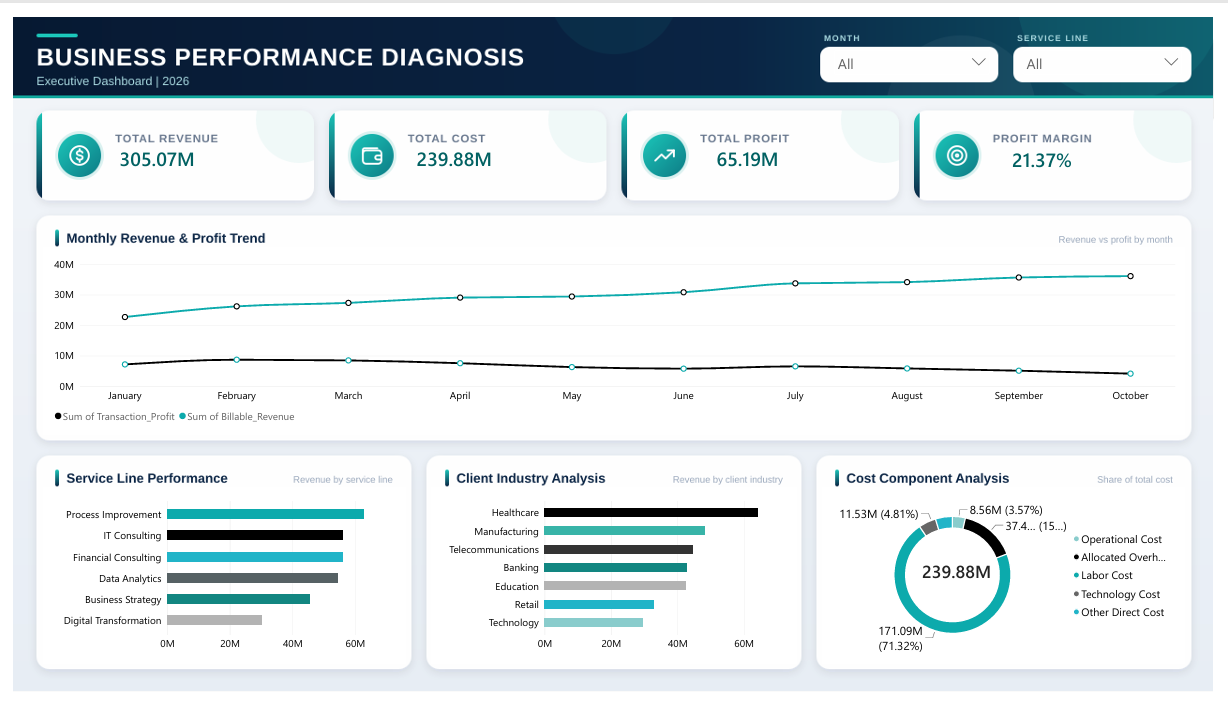

This screenshot's page, from the dashboard's own definition file:
{"tool":"powerbi","page":{"name":"Executive Overview","canvas":[1920,1080],"ordinal":0},"visuals":[{"type":"cardVisual","fields":{"Data":["business_performance business.Total Revenue"]},"box":[152.8,176.7,281.6,95.7],"z":0},{"type":"cardVisual","fields":{"Data":["business_performance business.Total Cost"]},"box":[627.6,176.7,217.2,95.7],"z":1},{"type":"cardVisual","fields":{"Data":["business_performance business.Total Profit"]},"box":[1108,176.7,173,95.7],"z":2},{"type":"cardVisual","fields":{"Data":["business_performance business.Profit Margin"]},"box":[1581,184.1,163.8,82.8],"z":3},{"type":"lineChart","fields":{"Category":["business_performance business.Month"],"Y":["Sum(business_performance business.Transaction_Profit)","Sum(business_performance business.Billable_Revenue)"]},"box":[47.9,368.1,1825.8,300],"z":4},{"type":"clusteredBarChart","fields":{"Category":["business_performance business.Service_Line"],"Y":["Sum(business_performance business.Billable_Revenue)"]},"box":[47.9,750.9,579.8,281.6],"z":5},{"type":"clusteredBarChart","fields":{"Category":["business_performance business.Client_Industry"],"Y":["Sum(business_performance business.Billable_Revenue)"]},"box":[668.1,750.9,585.3,281.6],"z":6},{"type":"donutChart","fields":{"Y":["business_performance business.Operational Cost","business_performance business.Allocated Overhead","business_performance business.Labor Cost","business_performance business.Technology Cost","business_performance business.Other Direct Cost"]},"box":[1293.9,750.9,579.8,281.6],"z":7},{"type":"slicer","fields":{"Values":["business_performance business.Month"]},"box":[1306.8,46,259.5,51.5],"z":8},{"type":"slicer","fields":{"Values":["business_performance business.Service_Line"]},"box":[1608.6,46,265,51.5],"z":9},{"type":"cardVisual","fields":{"Data":["business_performance business.Total Cost"]},"box":[1437.4,842.9,171.2,82.8],"z":10}]}

Visuals, with their boxes in screenshot pixels (x1, y1, x2, y2), scaled from the page's 1920x1080 canvas onto the 1228x706 screenshot:
cardVisual - business_performance business.Total Revenue: 98,116,278,178
cardVisual - business_performance business.Total Cost: 401,116,540,178
cardVisual - business_performance business.Total Profit: 709,116,819,178
cardVisual - business_performance business.Profit Margin: 1011,120,1116,174
lineChart - business_performance business.Month x Sum(business_performance business.Transaction_Profit): 31,241,1198,437
clusteredBarChart - business_performance business.Service_Line x Sum(business_performance business.Billable_Revenue): 31,491,401,675
clusteredBarChart - business_performance business.Client_Industry x Sum(business_performance business.Billable_Revenue): 427,491,802,675
donutChart - business_performance business.Operational Cost x business_performance business.Allocated Overhead: 828,491,1198,675
slicer - business_performance business.Month: 836,30,1002,64
slicer - business_performance business.Service_Line: 1029,30,1198,64
cardVisual - business_performance business.Total Cost: 919,551,1029,605
